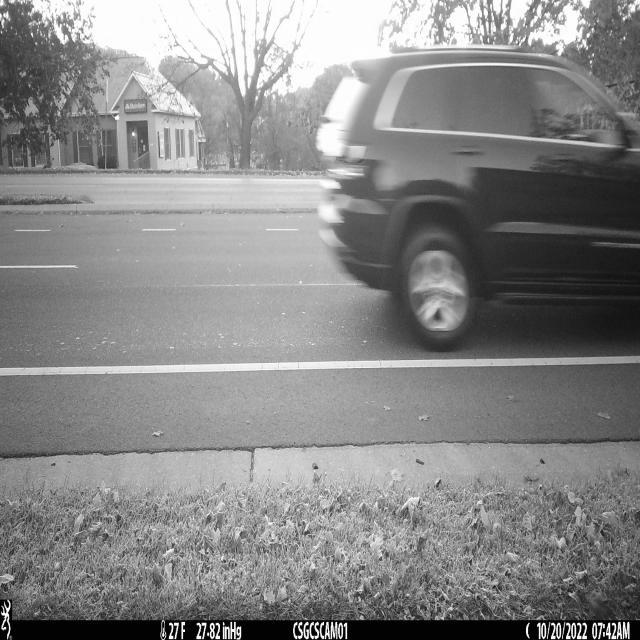SUV: (315, 46, 640, 351)
